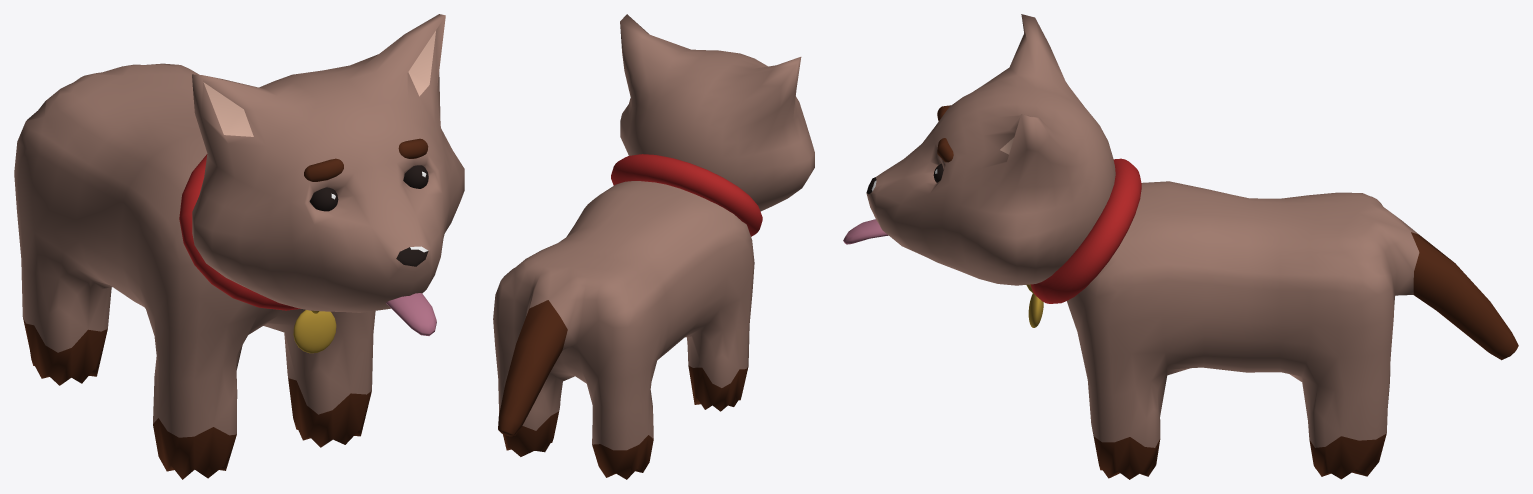
File: DOG-3.fbx
3 renders of one model, left to right at view 1: azimuth 30°, elevation 25°; view 2: azimuth 150°, elevation 25°; view 3: azimuth 270°, elevation 25°, orthographic. The views are drawn at different scales.
Visible parts, largest first — view 1: BODY, HEAD, COLLAR1, COLLAR2, TONGUE, EYEBROWS, EYES; view 2: BODY, HEAD, COLLAR1; view 3: BODY, HEAD, COLLAR1.
Boxes of the visible parts, box(x1,y1,x2,y2) form: BODY: box(14, 63, 375, 479); HEAD: box(192, 14, 464, 312); COLLAR1: box(179, 154, 300, 310); COLLAR2: box(293, 310, 336, 353); TONGUE: box(386, 293, 436, 335); EYEBROWS: box(304, 138, 428, 181); EYES: box(309, 165, 428, 211); BODY: box(493, 181, 754, 479); HEAD: box(620, 14, 814, 211); COLLAR1: box(611, 154, 762, 236); BODY: box(1067, 181, 1518, 479); HEAD: box(866, 14, 1115, 285); COLLAR1: box(1030, 158, 1141, 303).
Size of the model in its own units: 2.79 by 4.55 by 7.37.
